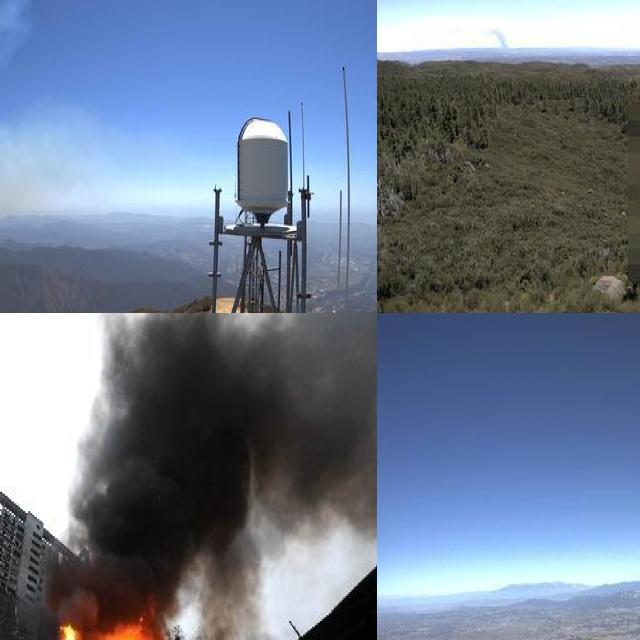smoke: (43, 313, 377, 615), (488, 24, 510, 49)
